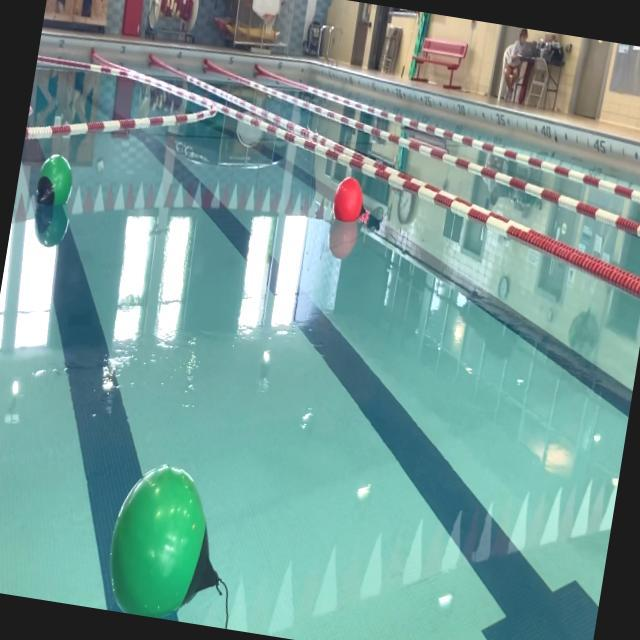buoy: (97, 456, 237, 627), (33, 150, 77, 219), (331, 174, 373, 225)
